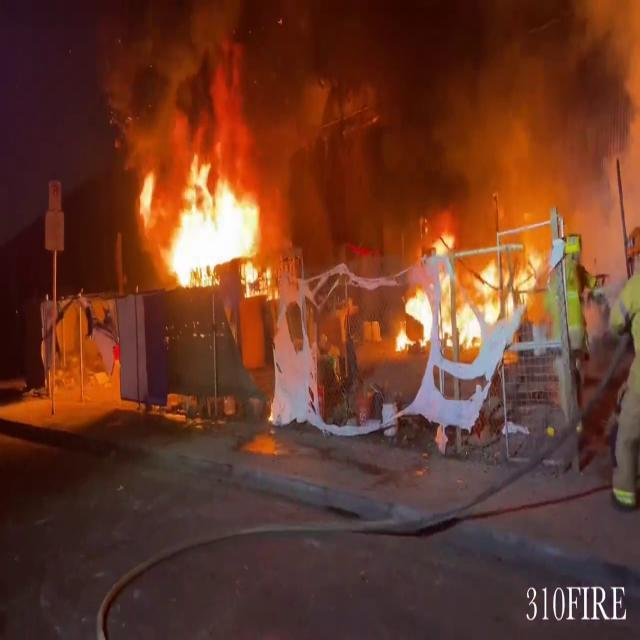Fire: (396, 220, 538, 356), (146, 158, 278, 292)
Smoke: (260, 0, 640, 226)
